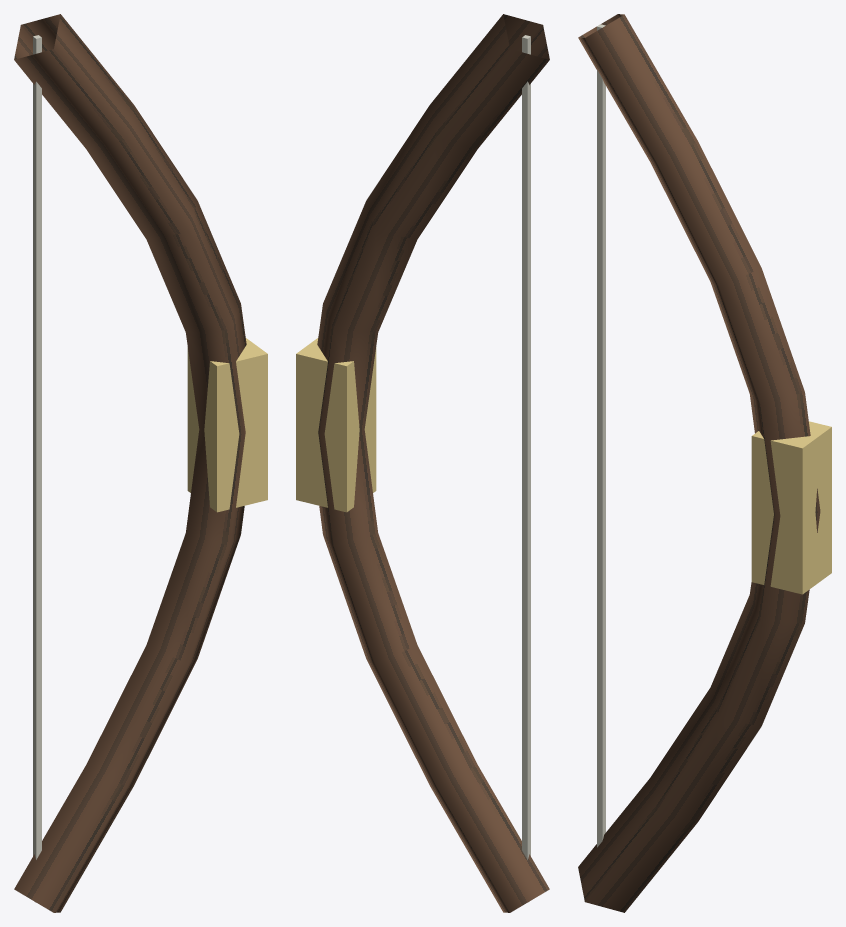
Rendered from bow_tier2.glb.
3 views of the same model, side by side, from view 1: azimuth 30°, elevation 25°; view 2: azimuth 150°, elevation 25°; view 3: azimuth 330°, elevation 25° (orthographic).
Visible parts, largest first — view 1: Bow_limb.001, Grip.004, String.001; view 2: Bow_limb.001, Grip.004, String.001; view 3: Bow_limb.001, Grip.004, String.001.
Boxes of the visible parts, <box> form: Bow_limb.001: <box>14,14,246,912</box>; Grip.004: <box>187,338,267,512</box>; String.001: <box>33,35,41,902</box>; Bow_limb.001: <box>317,14,549,912</box>; Grip.004: <box>296,338,376,512</box>; String.001: <box>522,35,530,902</box>; Bow_limb.001: <box>578,14,820,912</box>; Grip.004: <box>751,421,831,594</box>; String.001: <box>597,24,605,847</box>.
Bounding box in the file's own units: 0.3818 × 1.35 × 0.09.
3 materials, 1 textured.
